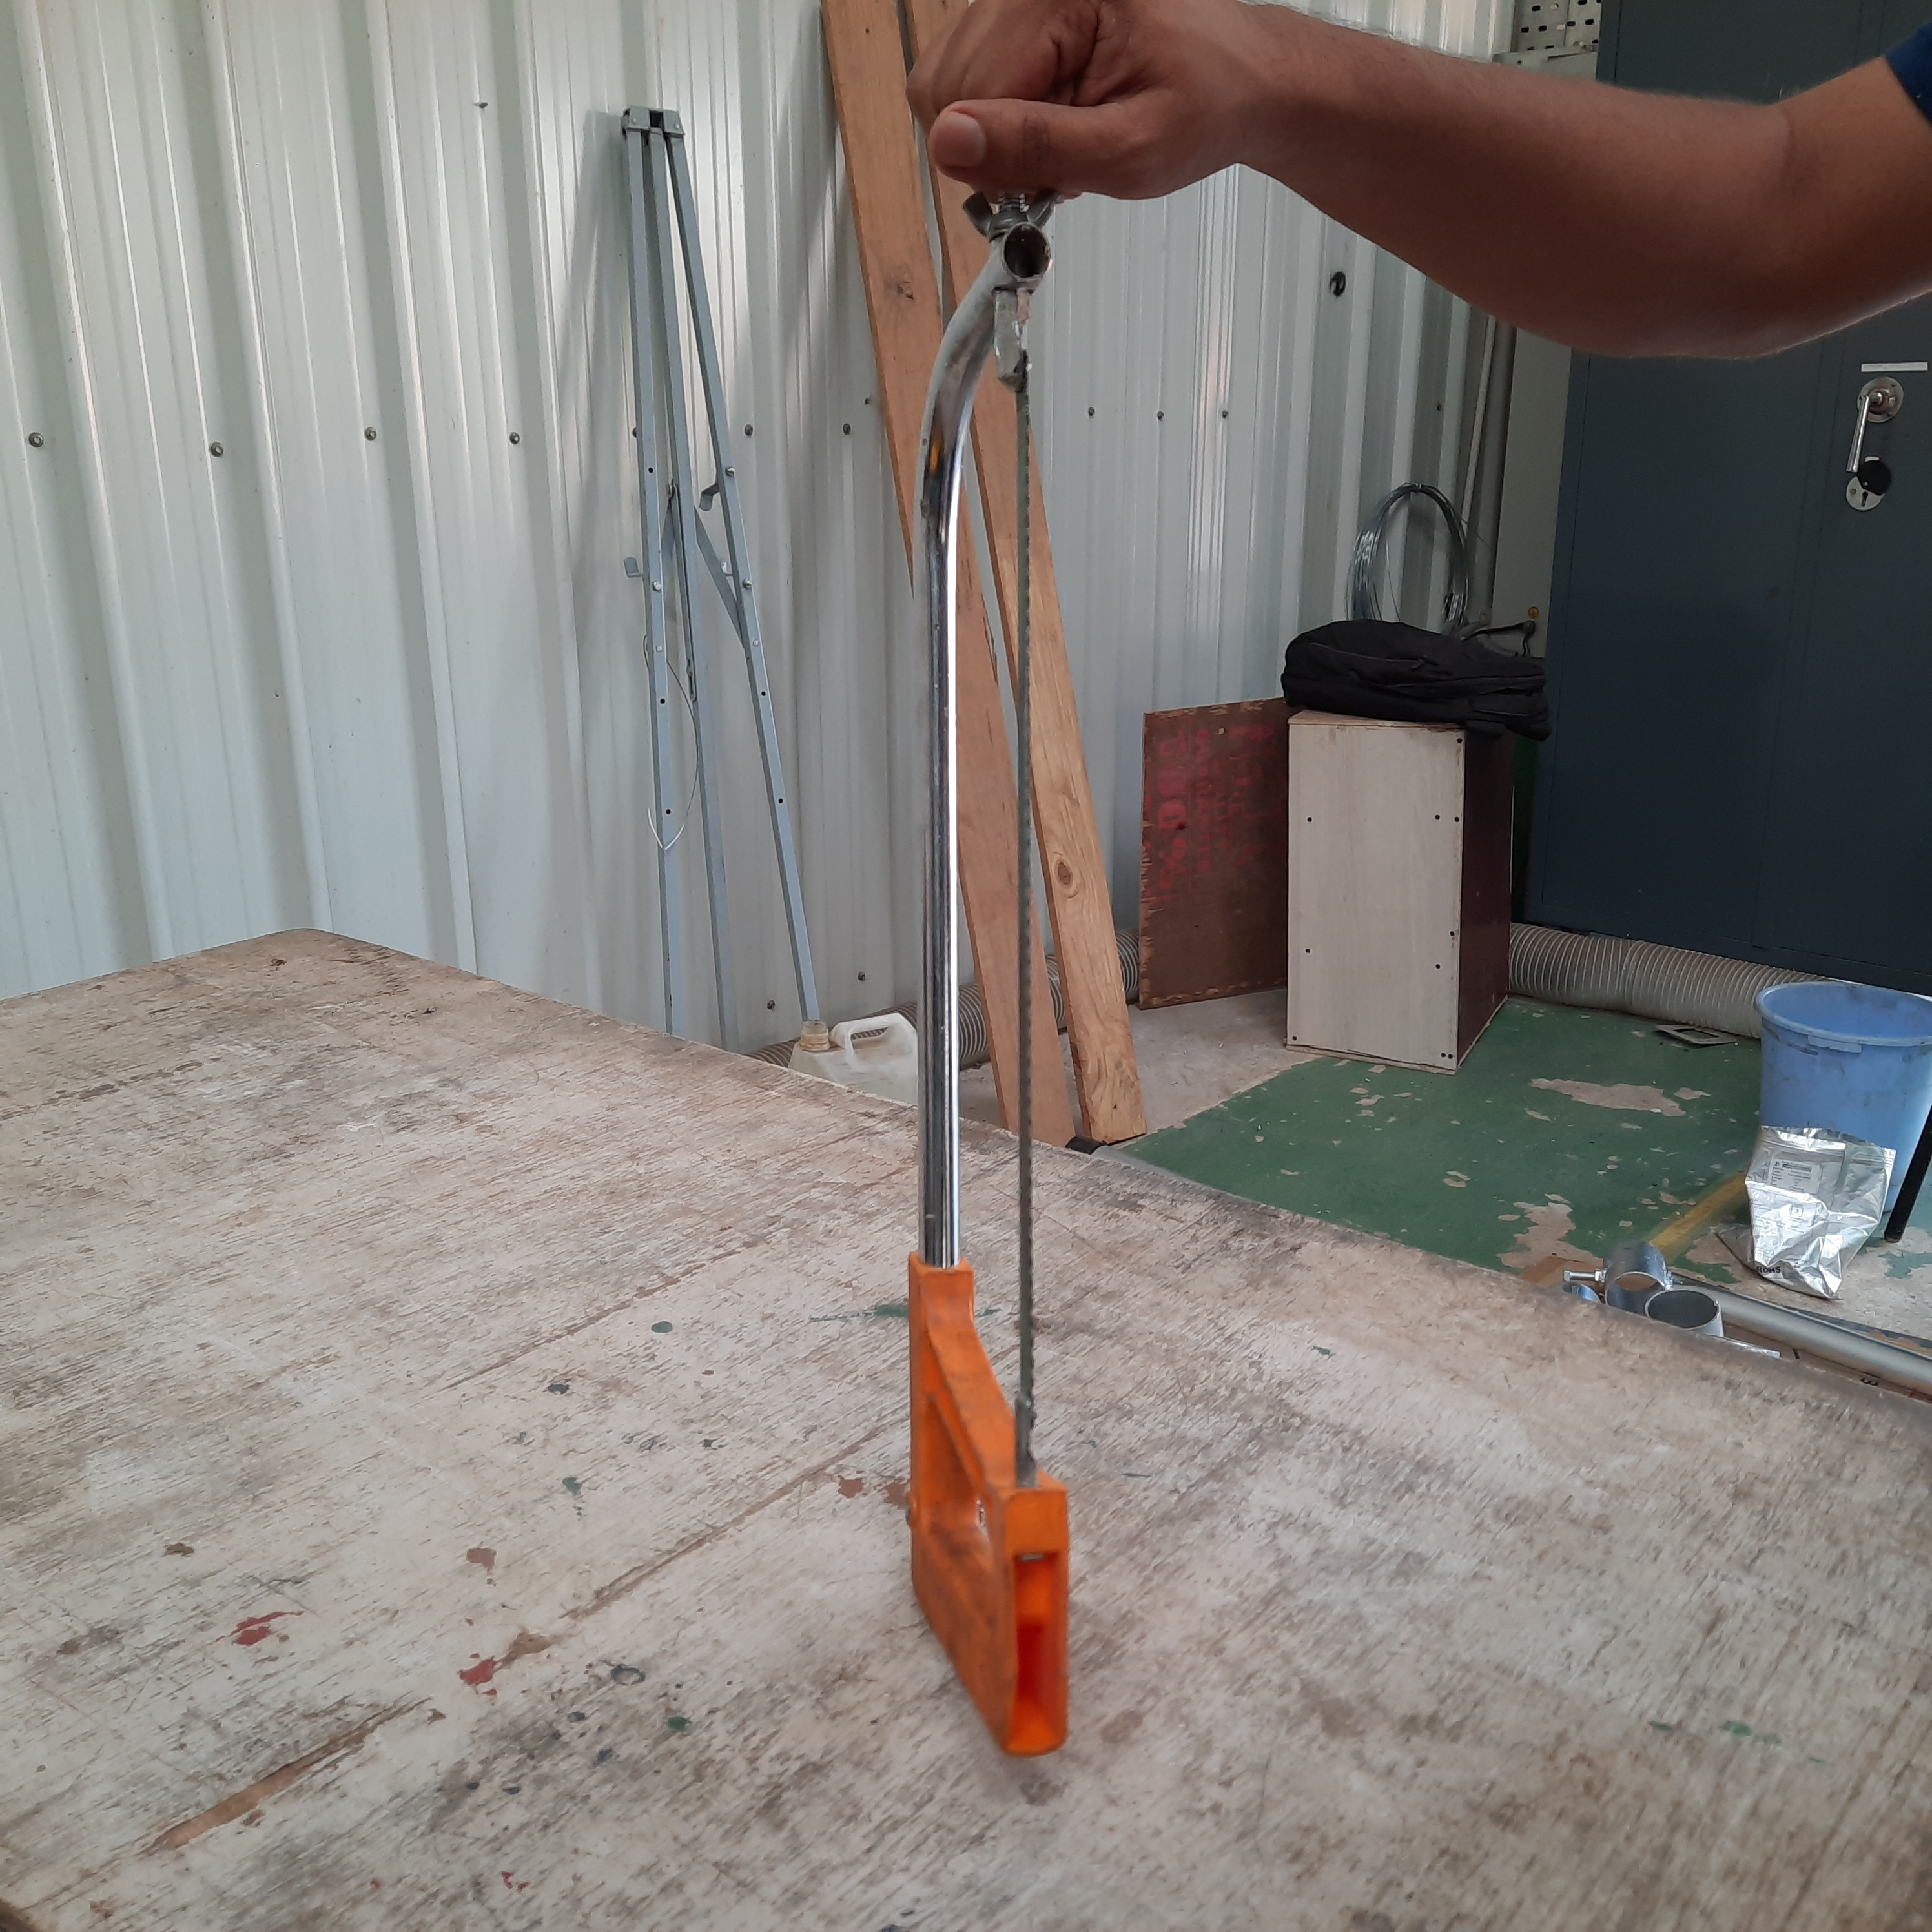Hexaframe: (856, 177, 1104, 1759)
